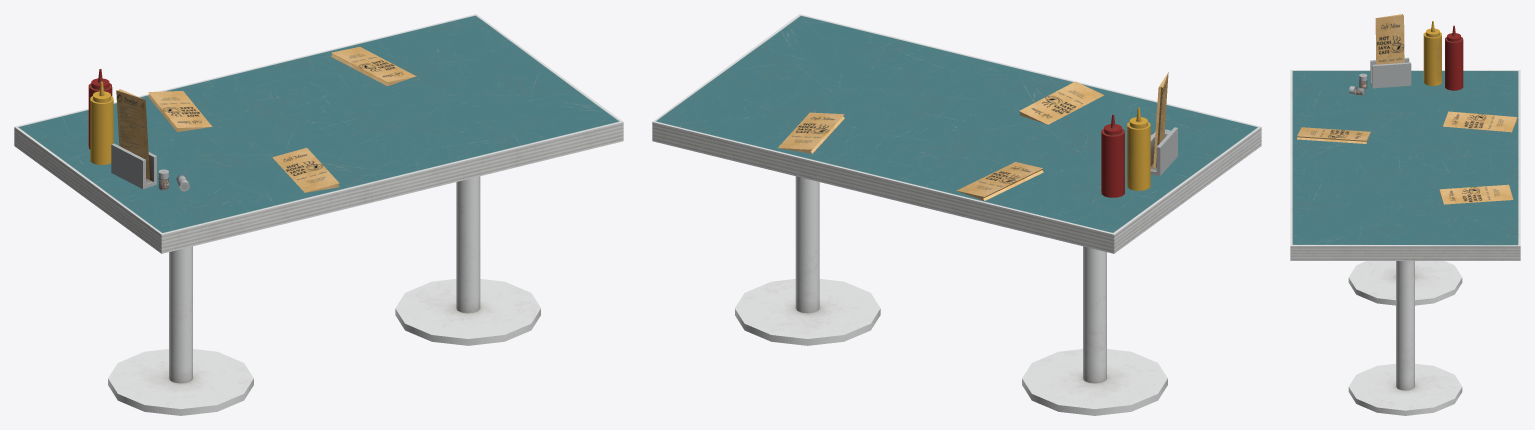
File: Double_Table.glb
3 views of the same model, side by side, from view 1: azimuth 30°, elevation 25°; view 2: azimuth 150°, elevation 25°; view 3: azimuth 270°, elevation 25° (orthographic). The views are drawn at different scales.
Parts seen in each view (by area): view 1: Box022_01 - Default_0, Plane016, Cylinder011, Plane019, Plane018, Plane017, Box025; view 2: Box022_01 - Default_0, Plane019, Cylinder011, Cylinder010, Plane018, Plane017, Box025, Plane016; view 3: Box022_01 - Default_0, Plane016, Plane018, Plane017, Cylinder010, Cylinder011, Box025, Plane019.
Part boxes in pixels (<box>): Box022_01 - Default_0: <box>14,14,623,415</box>; Plane016: <box>116,89,149,179</box>; Cylinder011: <box>90,81,113,164</box>; Plane019: <box>272,147,339,192</box>; Plane018: <box>331,46,416,86</box>; Plane017: <box>148,91,212,131</box>; Box025: <box>111,143,156,189</box>; Box022_01 - Default_0: <box>652,14,1261,415</box>; Plane019: <box>1019,81,1103,124</box>; Cylinder011: <box>1127,107,1150,190</box>; Cylinder010: <box>1101,114,1124,197</box>; Plane018: <box>778,112,844,153</box>; Plane017: <box>956,162,1043,200</box>; Box025: <box>1150,127,1177,175</box>; Plane016: <box>1153,72,1168,167</box>; Box022_01 - Default_0: <box>1290,70,1520,415</box>; Plane016: <box>1375,14,1404,64</box>; Plane018: <box>1439,184,1513,204</box>; Plane017: <box>1443,111,1517,132</box>; Cylinder010: <box>1445,25,1463,90</box>; Cylinder011: <box>1423,21,1441,85</box>; Box025: <box>1370,57,1411,88</box>; Plane019: <box>1297,127,1370,143</box>.
Bounding box in the file's own units: 0.7101 × 0.4591 × 0.3926.
1 material, 1 textured.
